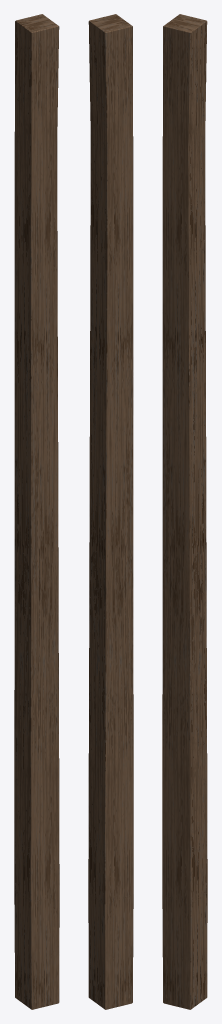
The model's file is SM_beam_02.fbx.
3 views of the same model, side by side, from view 1: azimuth 30°, elevation 25°; view 2: azimuth 210°, elevation 25°; view 3: azimuth 330°, elevation 25° (orthographic).
Visible parts, largest first — view 1: SM_beam_02; view 2: SM_beam_02; view 3: SM_beam_02.
Boxes of the visible parts, x1,y1,x2,y2 form: SM_beam_02: (14,14,59,1009); SM_beam_02: (88,14,133,1009); SM_beam_02: (162,14,207,1009).
Size of the model in its own units: 20 by 20 by 640.
1 material, 1 textured.
